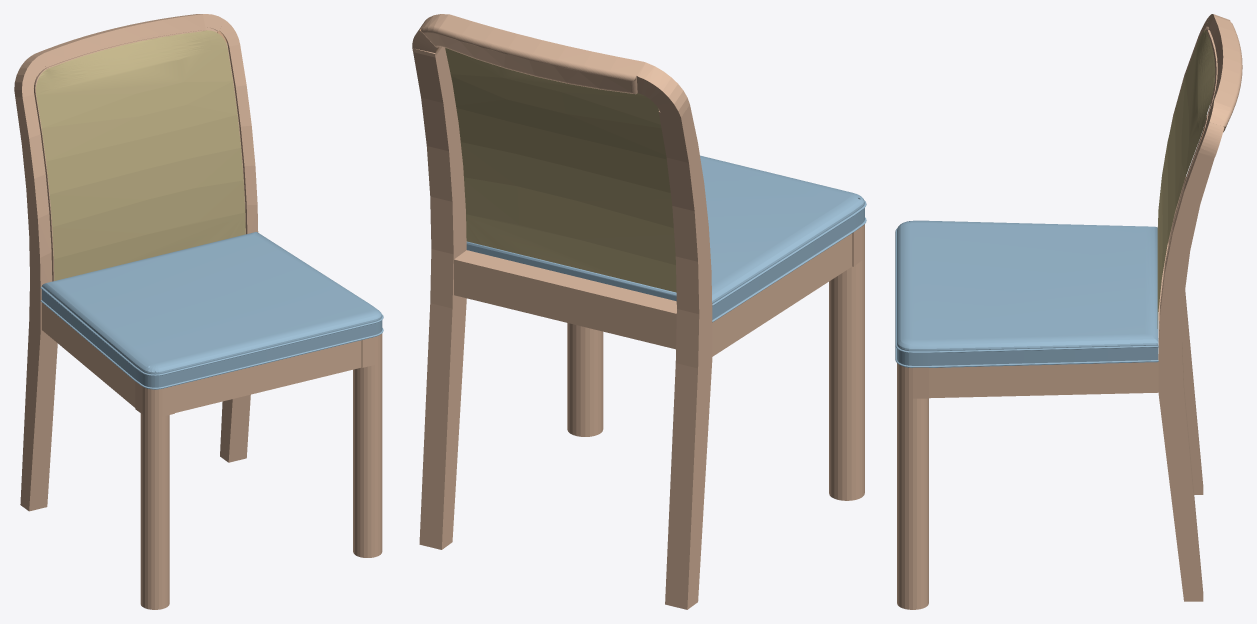
The model's file is moscato-cadeira.glb.
The picture shows the model from 3 angles, left to right: view 1: azimuth 30°, elevation 25°; view 2: azimuth 150°, elevation 25°; view 3: azimuth 270°, elevation 25°; orthographic projection. The views are drawn at different scales.
Visible parts, largest first — view 1: object 10, object 11, Component17 (×2), Component26, Component23, Component16, Component25, Component13; view 2: object 10, object 11, Component26, Component25, Component17 (×2), Component19, Component16, Component13; view 3: object 11, Component25, Component17, Component13, object 10, Component16, Component26.
Part boxes in pixels (x1,y1,x2,y2): object 10: [36, 30, 245, 280]; object 11: [40, 232, 383, 389]; Component17 (×2): [135, 333, 382, 609]; Component26: [15, 94, 57, 511]; Component23: [175, 340, 361, 412]; Component16: [14, 14, 238, 97]; Component25: [220, 40, 258, 462]; Component13: [41, 302, 135, 407]; object 10: [445, 48, 676, 292]; object 11: [466, 155, 866, 322]; Component26: [658, 105, 712, 609]; Component25: [412, 47, 466, 549]; Component17 (×2): [567, 224, 864, 500]; Component19: [454, 250, 676, 349]; Component16: [412, 14, 689, 117]; Component13: [712, 233, 852, 356]; object 11: [895, 220, 1158, 367]; Component25: [1158, 139, 1216, 601]; Component17: [897, 363, 928, 609]; Component13: [929, 354, 1158, 398]; object 10: [1157, 30, 1215, 328]; Component16: [1198, 14, 1242, 153]; Component26: [1168, 36, 1203, 494].
Size of the model in its own units: 0.477 by 0.8455 by 0.5436.
